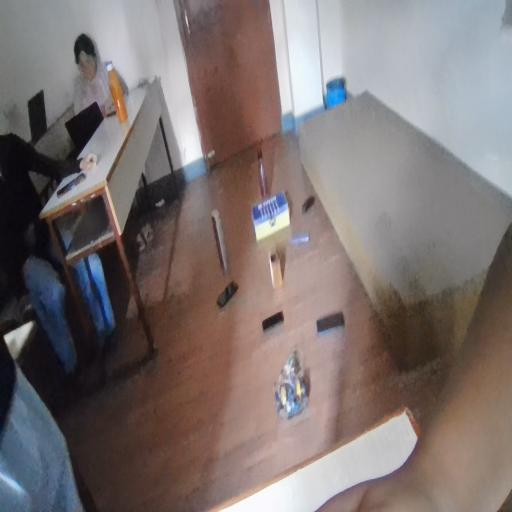Bottle: (254, 138, 275, 185)
car: (262, 335, 311, 439)
